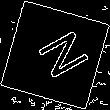N_SW: (23, 25, 87, 85)
